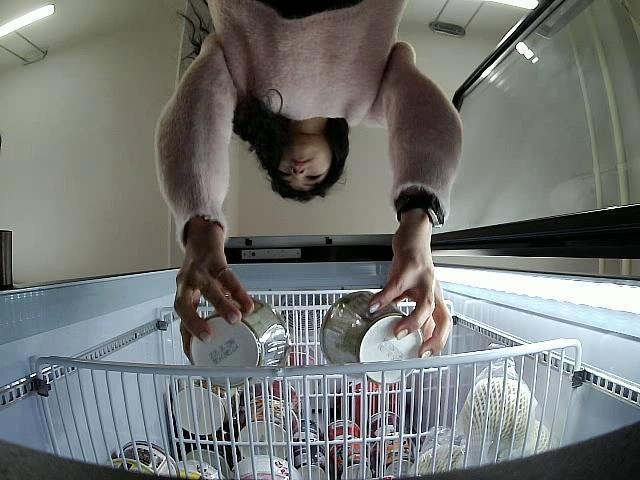04_chapagetti_S: (321, 290, 424, 385), (188, 298, 288, 390)
